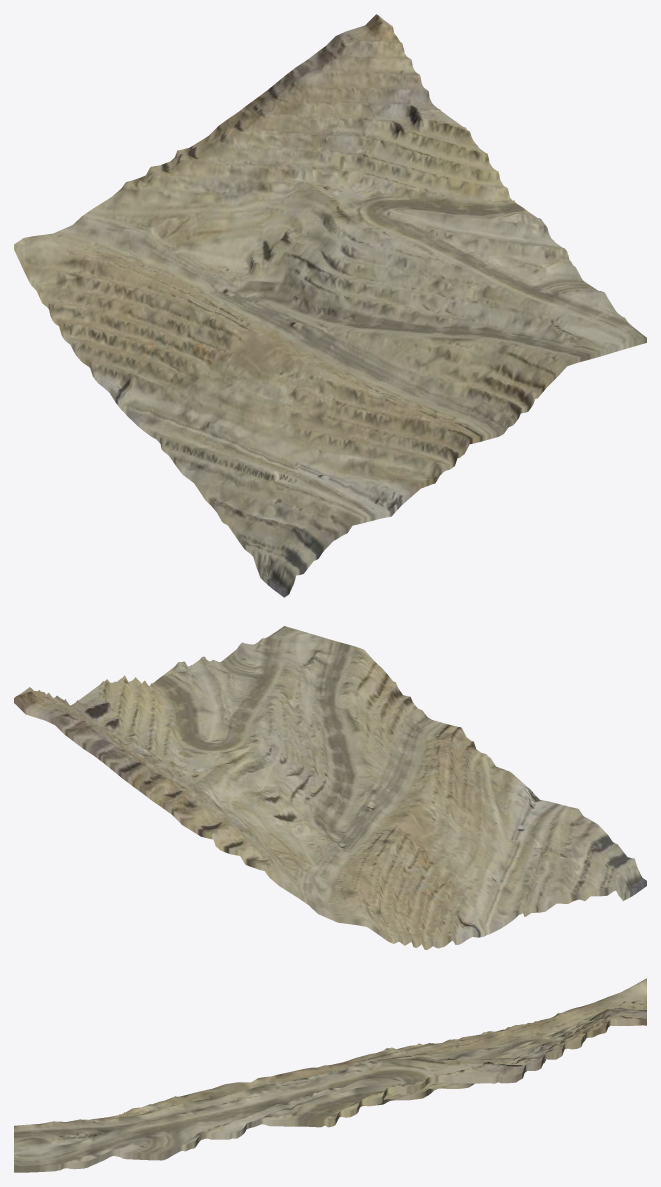
3 views of the same model, one above another, from view 1: azimuth 30°, elevation 25°; view 2: azimuth 150°, elevation 25°; view 3: azimuth 270°, elevation 25° (orthographic). The views are drawn at different scales.
Parts seen in each view (by area): view 1: l1-3-2; view 2: l1-3-2; view 3: l1-3-2.
Part boxes in pixels (left/top/right/bottom): l1-3-2: left=14, top=14, right=646, bottom=597; l1-3-2: left=14, top=626, right=646, bottom=949; l1-3-2: left=14, top=978, right=646, bottom=1172.
Size of the model in its own units: 595 by 467 by 768.
1 material, 1 textured.
